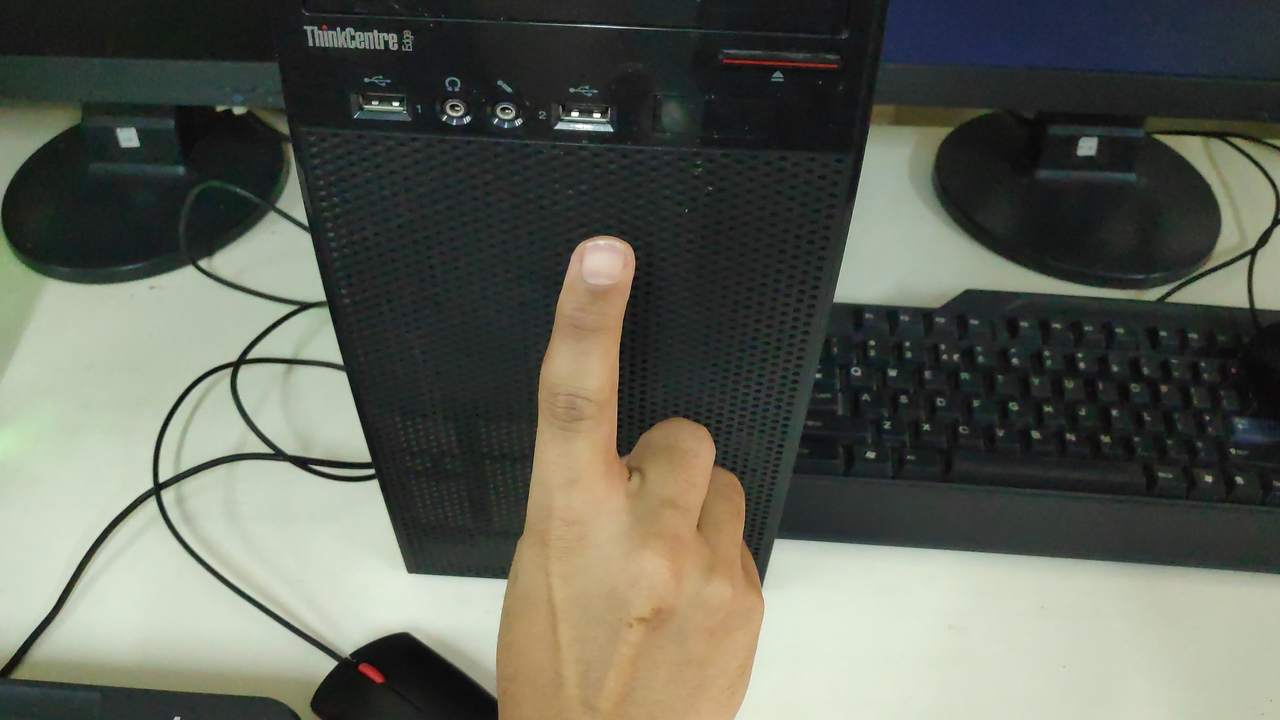fingertip: (554, 230, 642, 300)
